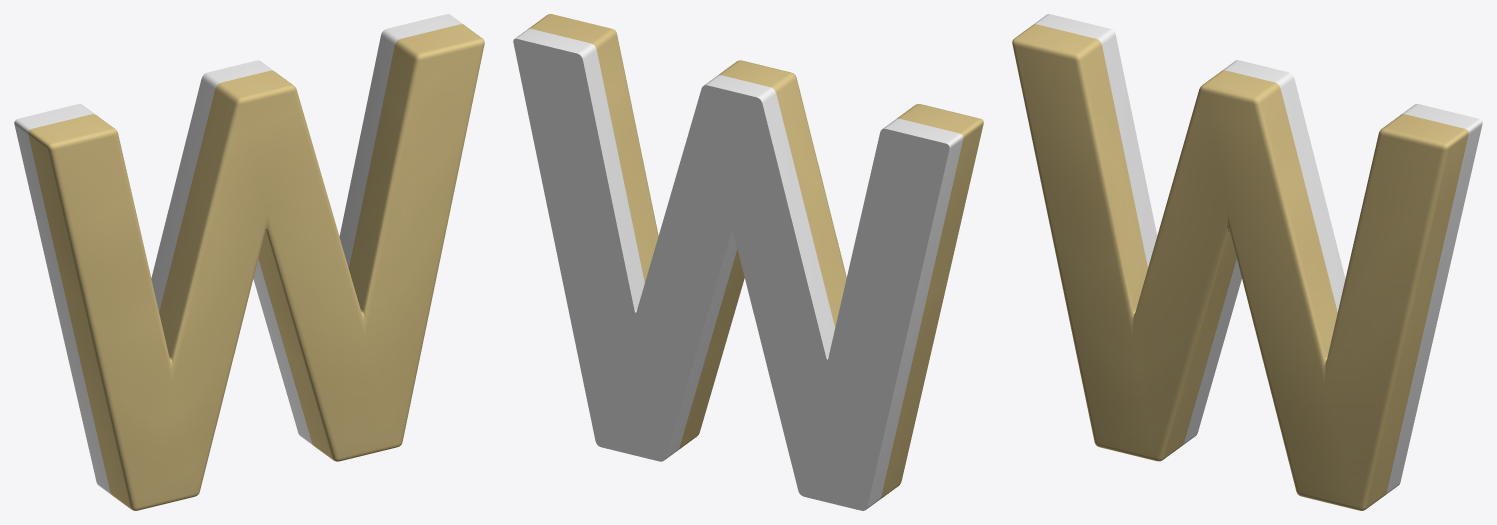
The model's file is LettersLightUp01_W.FBX.
3 renders of one model, left to right at view 1: azimuth 30°, elevation 25°; view 2: azimuth 150°, elevation 25°; view 3: azimuth 330°, elevation 25°, orthographic.
Visible parts, largest first — view 1: LettersLightUp01_W; view 2: LettersLightUp01_W; view 3: LettersLightUp01_W.
Part boxes in pixels (<box>): LettersLightUp01_W: <box>14,14,484,510</box>; LettersLightUp01_W: <box>513,14,983,510</box>; LettersLightUp01_W: <box>1012,14,1482,510</box>.
Size of what is drawn, in the model's own units: 0.7064 by 0.6001 by 0.1012.
